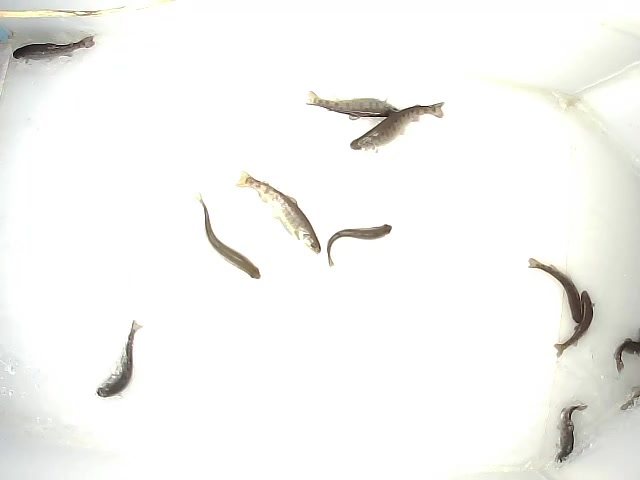fish: (233, 168, 322, 256), (194, 193, 262, 281), (348, 100, 447, 154), (526, 255, 585, 323), (95, 319, 143, 401), (325, 221, 393, 270), (304, 88, 404, 120), (552, 289, 596, 359), (11, 34, 96, 65), (554, 402, 590, 467)
